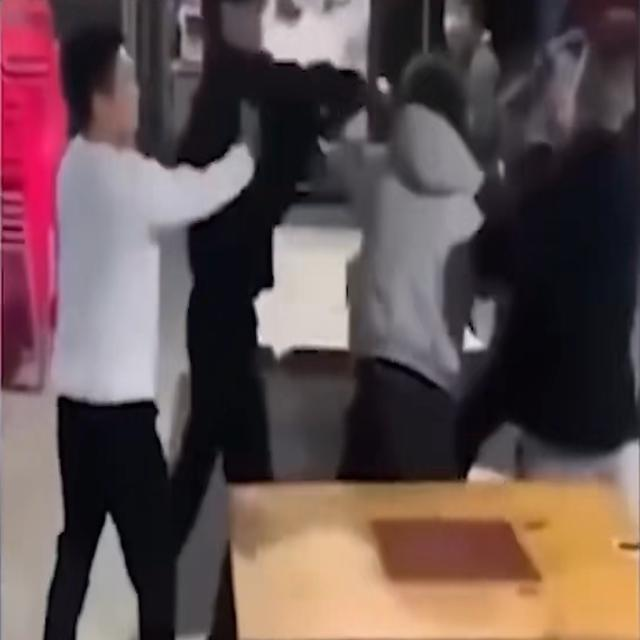fight: (186, 0, 498, 289)
nofight: (44, 19, 209, 632)
